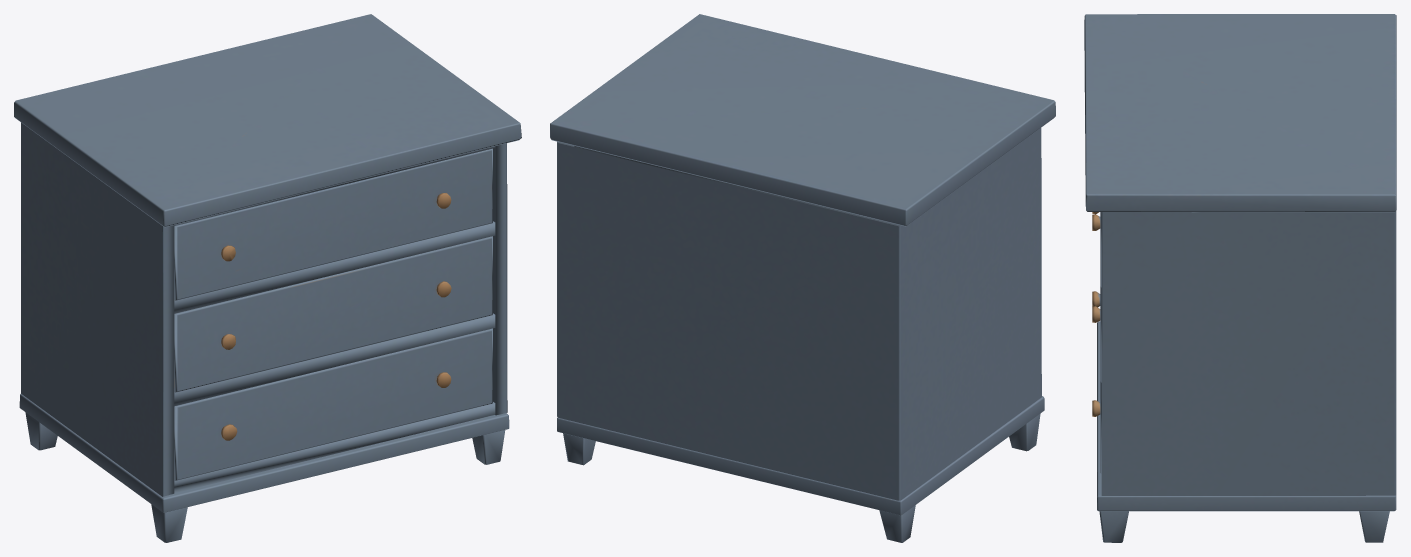
The model's file is dresser.glb.
3 renders of one model, left to right at view 1: azimuth 30°, elevation 25°; view 2: azimuth 150°, elevation 25°; view 3: azimuth 270°, elevation 25°, orthographic. The views are drawn at different scales.
Size of the model in its own units: 0.9497 by 0.8652 by 0.6909.
1 material, 1 textured.
